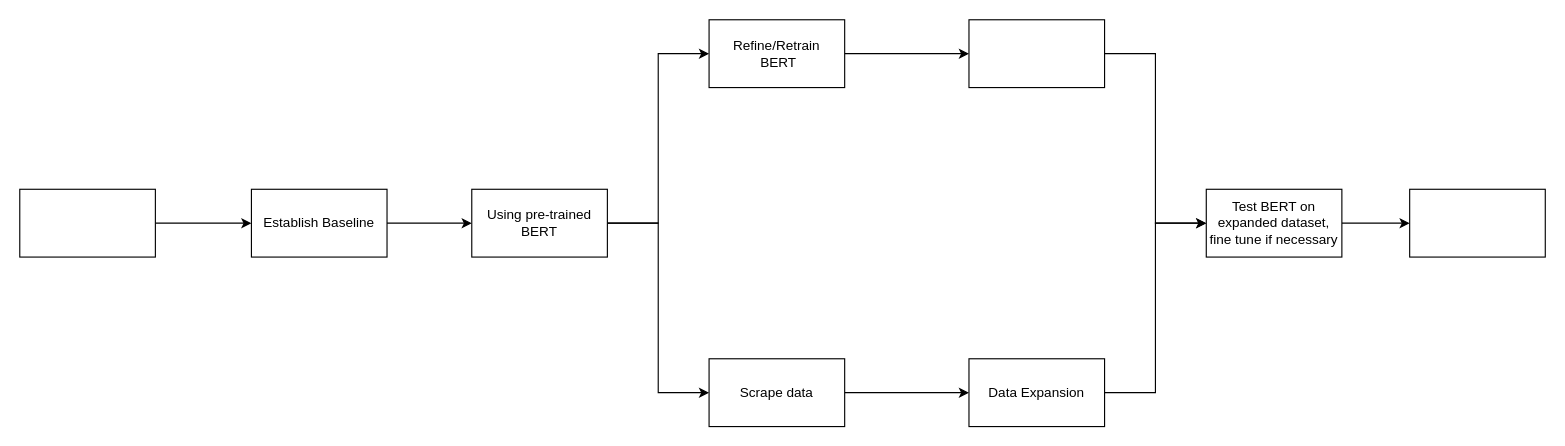
Image size: 1565x446. Some labels were removed from this diagram. The centre of each missing label's shape, as x and y in pixels:
Evaluate if the system can answer more up-to-date questions: point (1477, 222)
Evaluating refined BERT on existing dataset: point (1036, 53)
Procure Data: point (87, 222)
